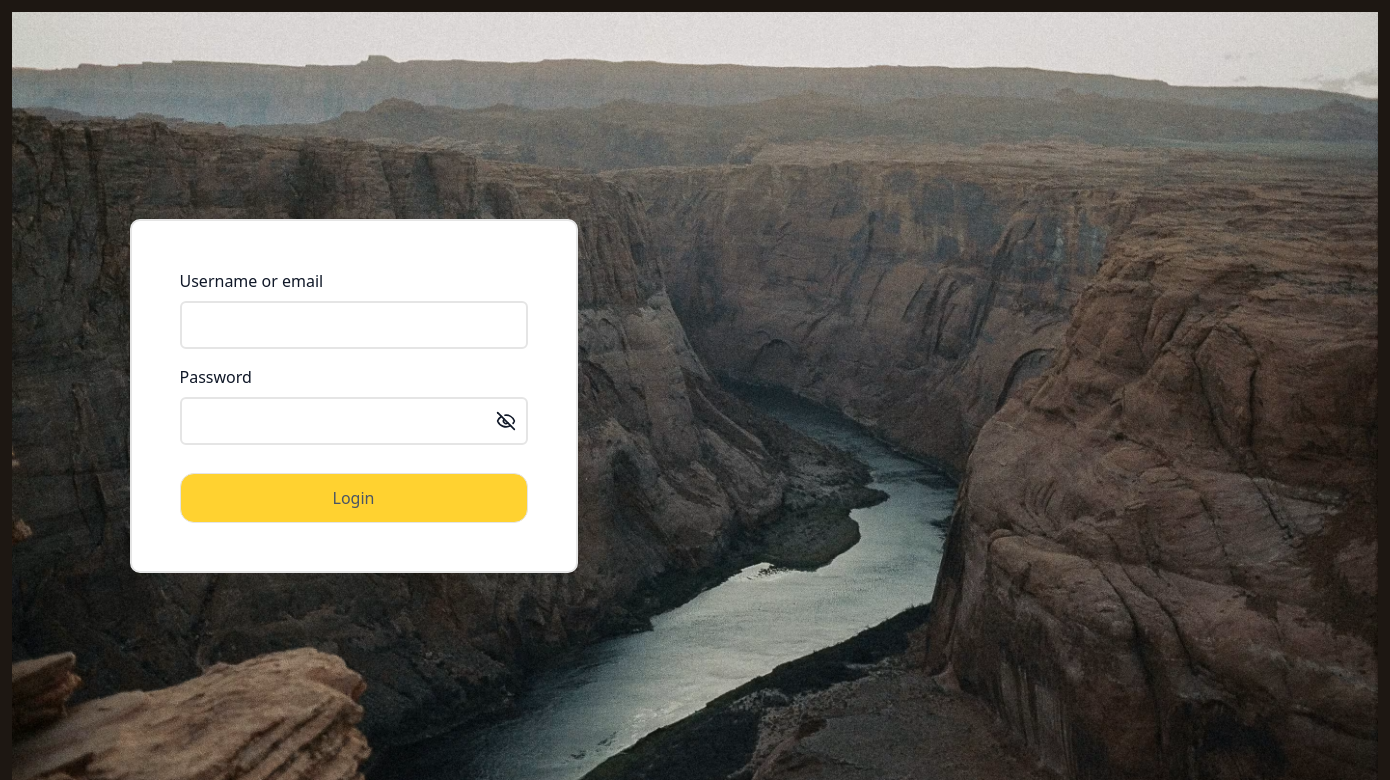
Scenario: LoginForm › Include error flow › Error from input fields › shows error when submitting with empty fields
This screenshot has width=1390, height=780.
Click the button with test id "login-submit": (354, 498) [180,473,528,523]
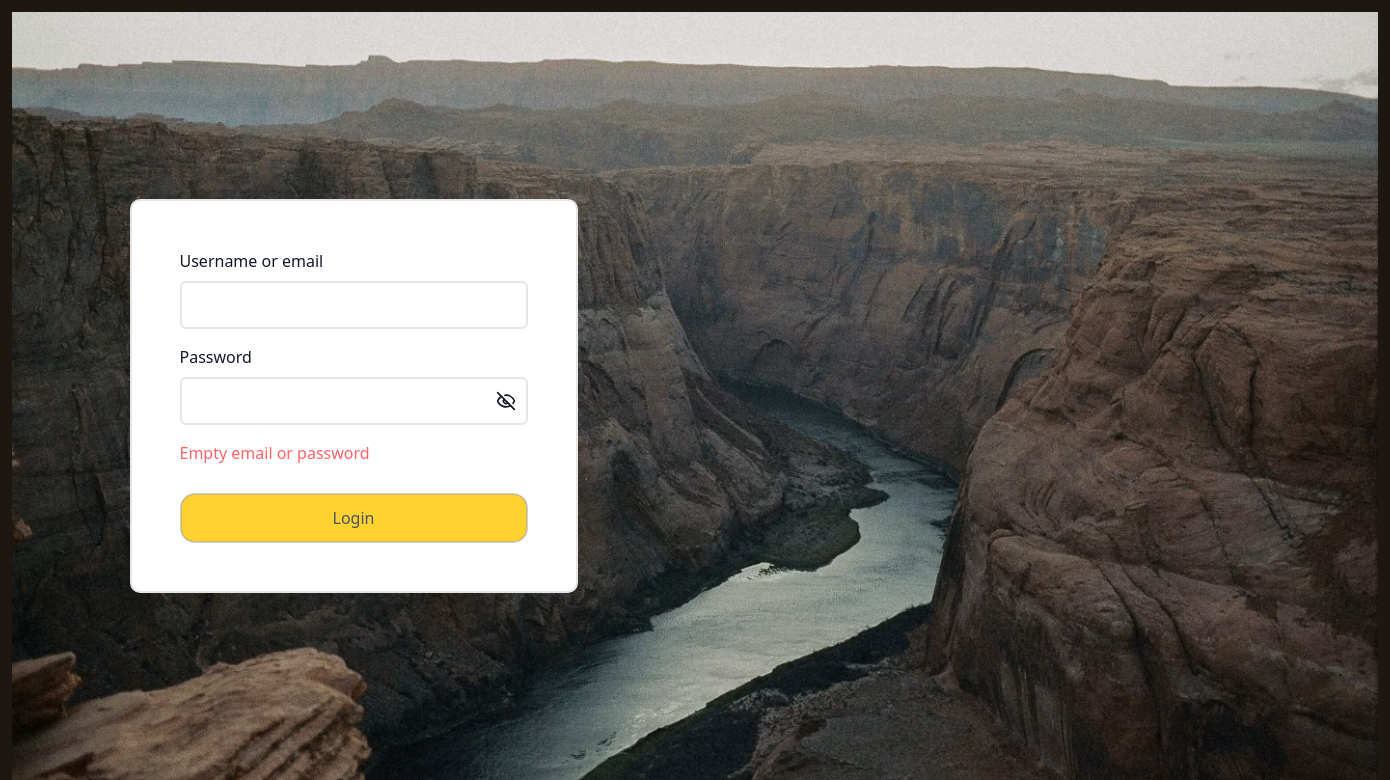
Expected: the message "Empty email or password" is shown, [180,442,370,464]
